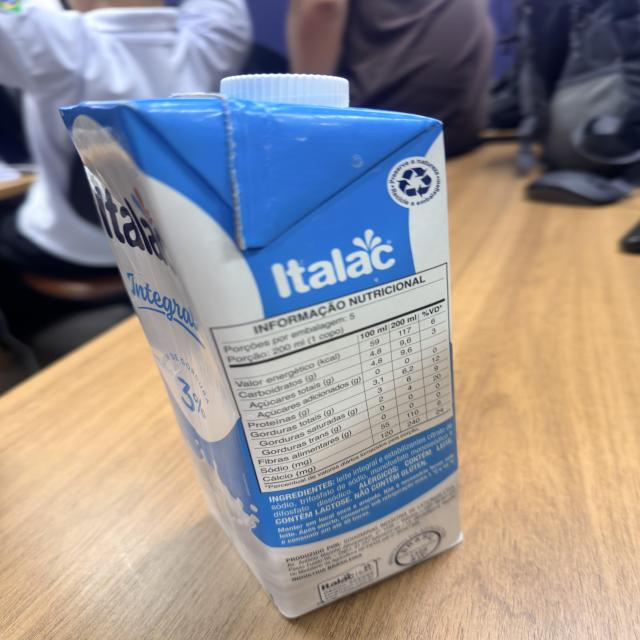Caixa de Leite: (60, 73, 465, 620)
